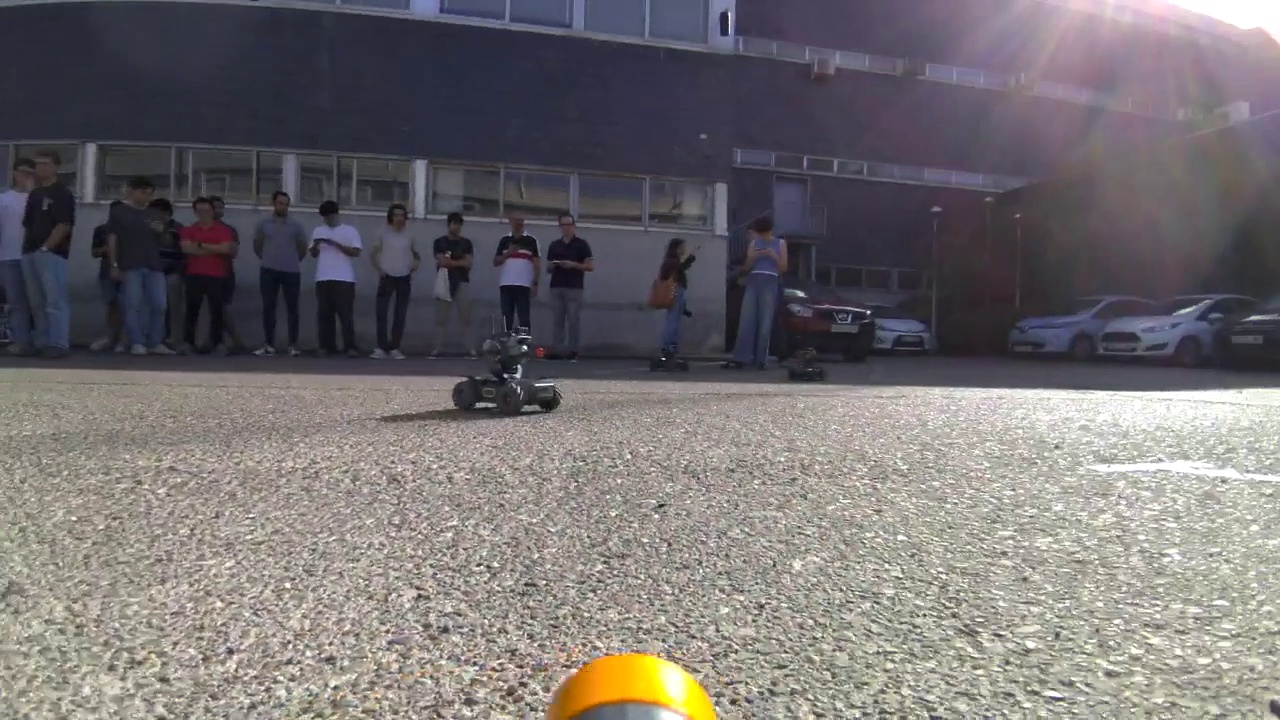robot: (441, 323, 567, 420)
